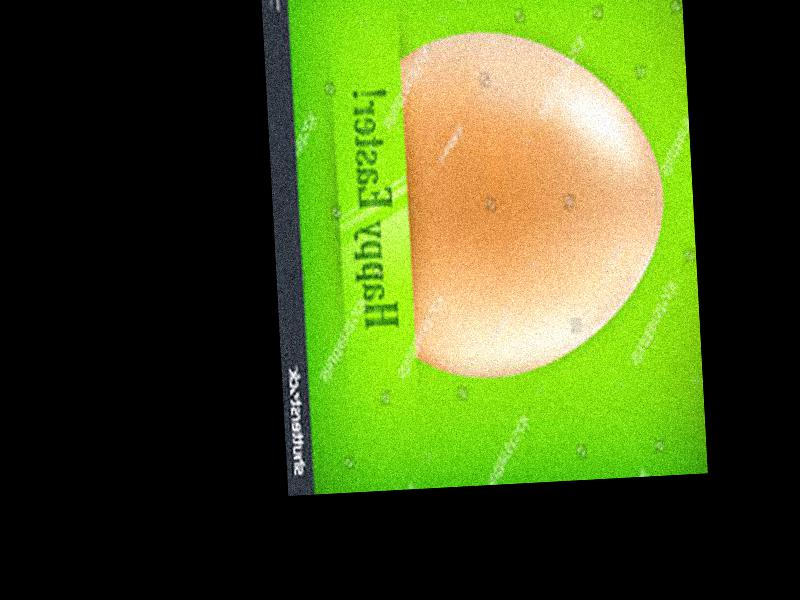Eggs: (399, 23, 672, 380)
